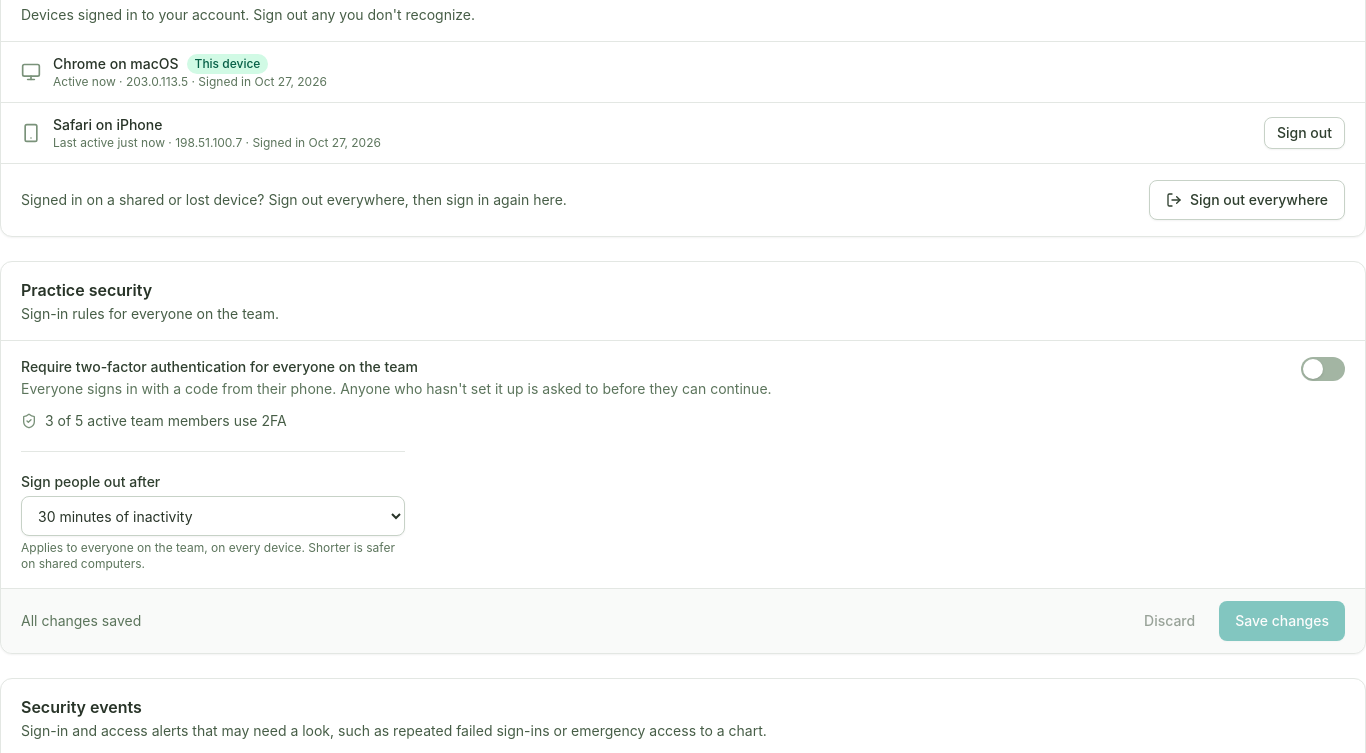
SecuritySettings › practice security › requires two-factor for the team and shortens the idle limit
(page scrolled)
Check: the text "3 of 5 active team members use 2FA" is shown, box 21,412 -> 287,429
Click the switch named "Require two-factor authentication".
click(1323, 369)  # box 1301,357 -> 1345,381
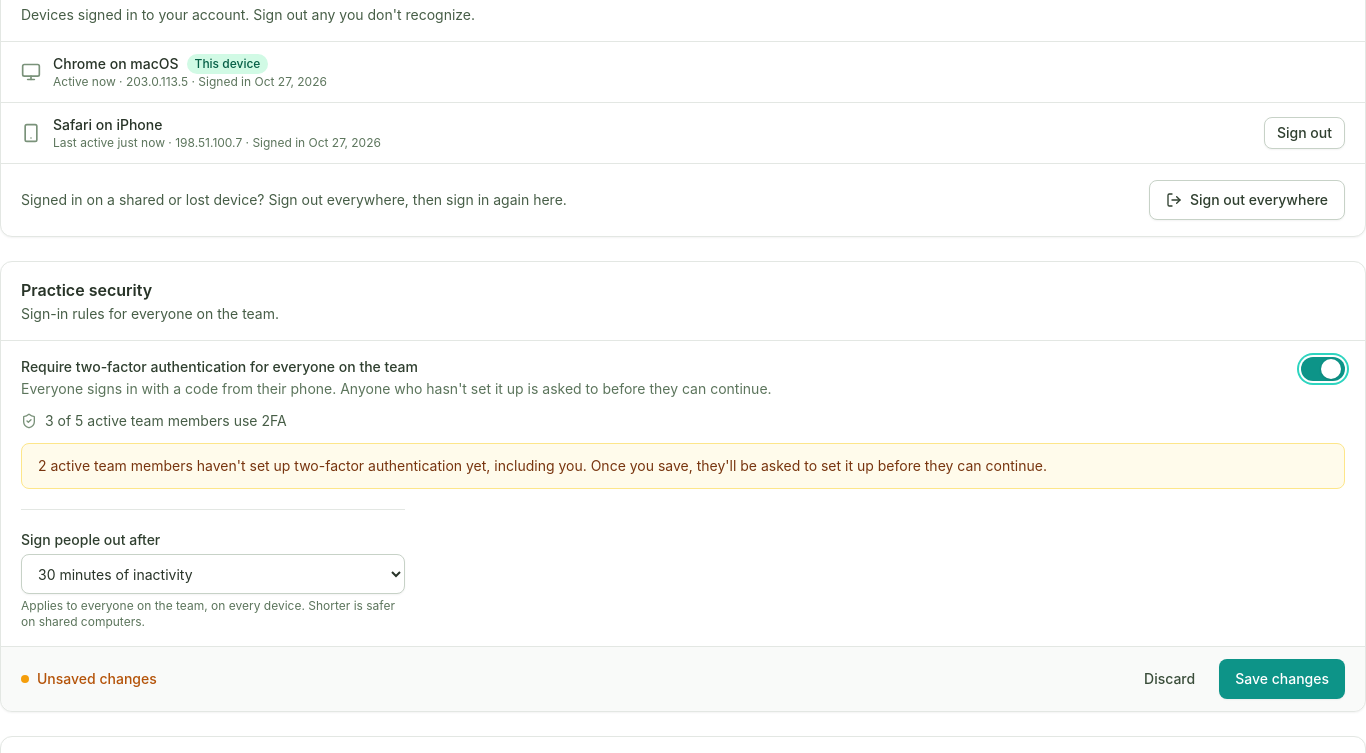
Check: the text "2 active team members haven't set up two-factor authentication yet, including you" is shown, box 38,457 -> 1047,474
Select "15 minutes of inactivity" in the dropdown labelled "Sign people out after" at (213, 574), box 21,554 -> 405,594
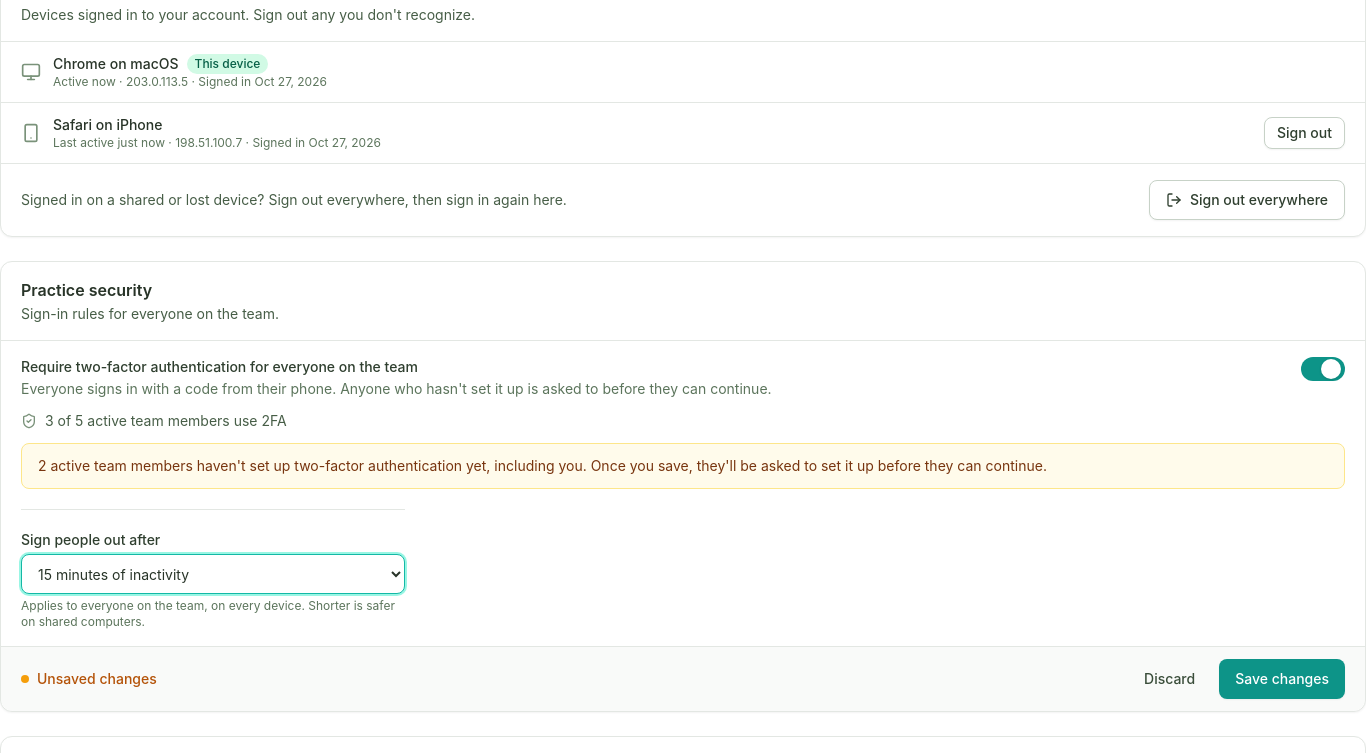
Click the button "Save changes".
click(1282, 679)  # box 1219,659 -> 1345,699
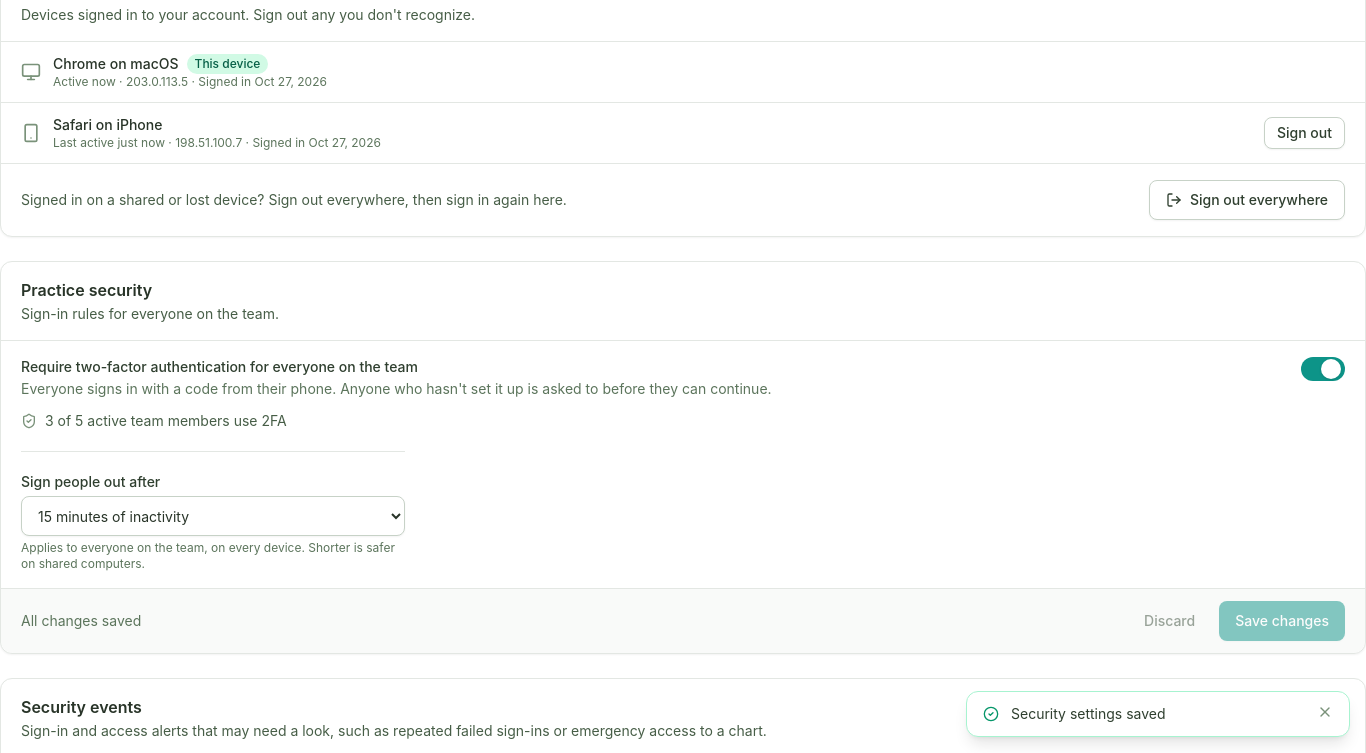
Check: the text "Security settings saved" is shown, box 1011,705 -> 1166,722
